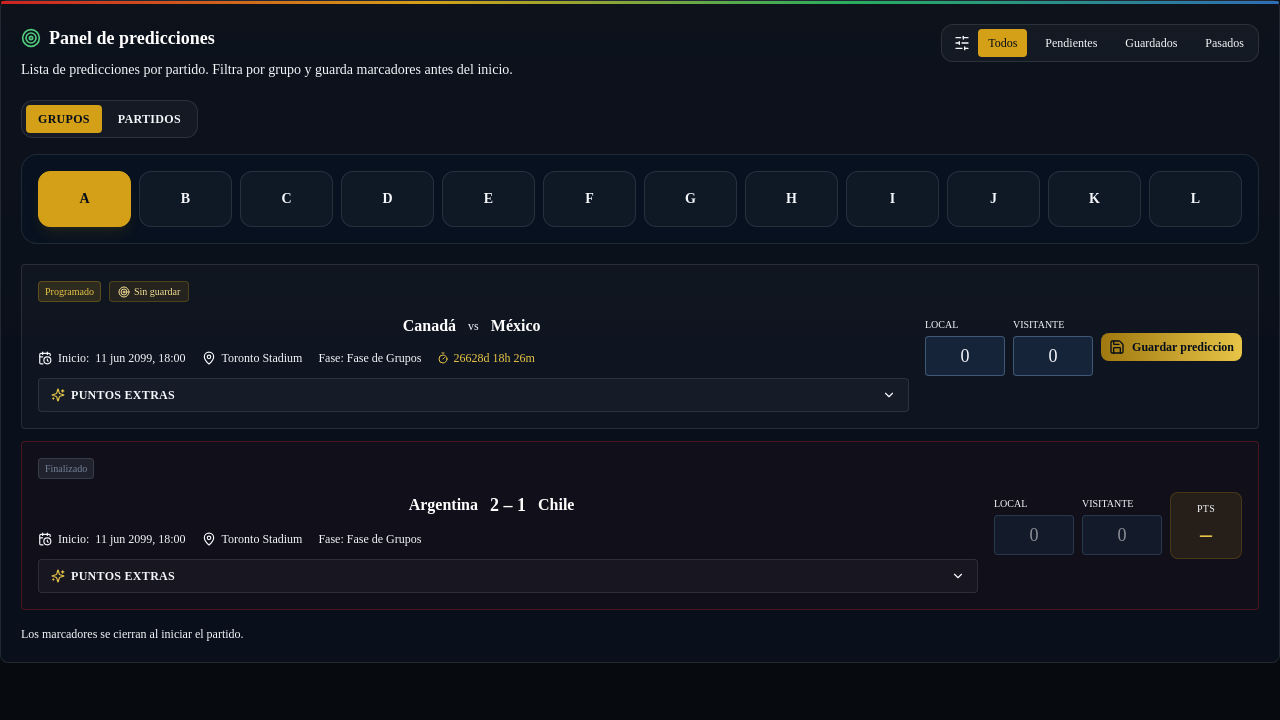
PredictionPanel › filters past matches with the "past" filter
Expected: the text "Canadá" is shown, [403,317,456,334]
Note: Switch to Past filter — only finished match (Argentina) should appear
Click the button "Pasados". click: (1225, 43)
box: [1195,29,1254,57]
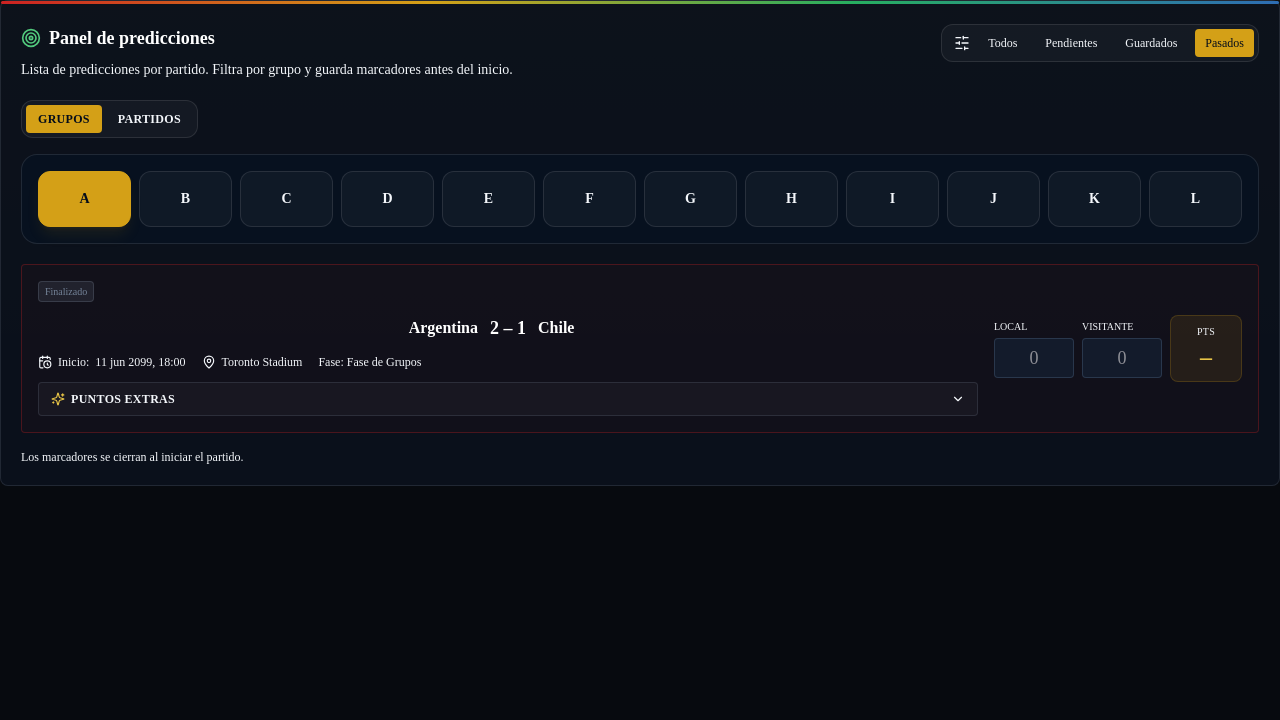
Expected: the text "Argentina" is shown, [409,319,478,336]
Expected: the text "Canadá" is gone
